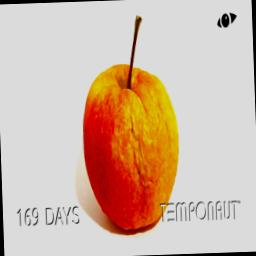Apple Overripe: (77, 0, 184, 236)
